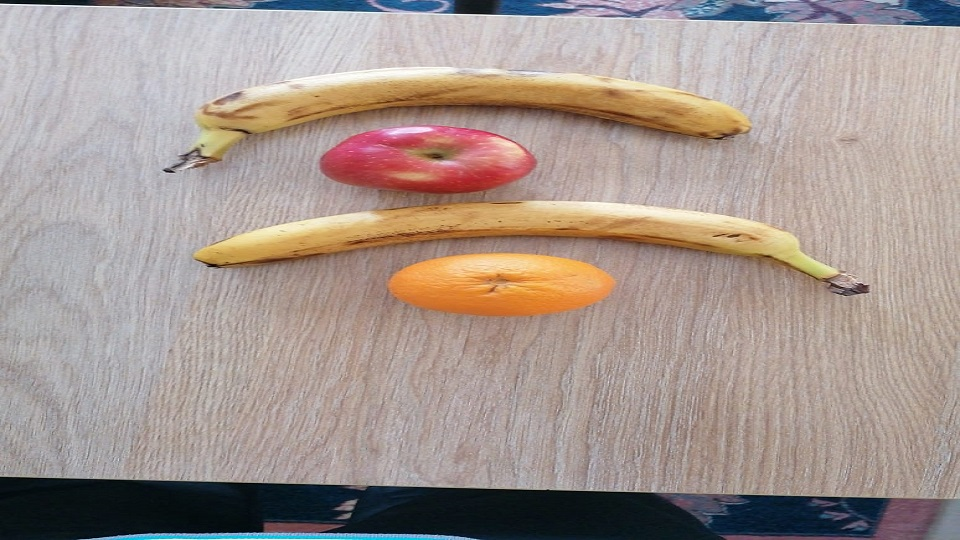elma: (319, 124, 538, 194)
muz: (193, 199, 865, 286), (176, 66, 753, 152)
portakal: (386, 253, 618, 317)
